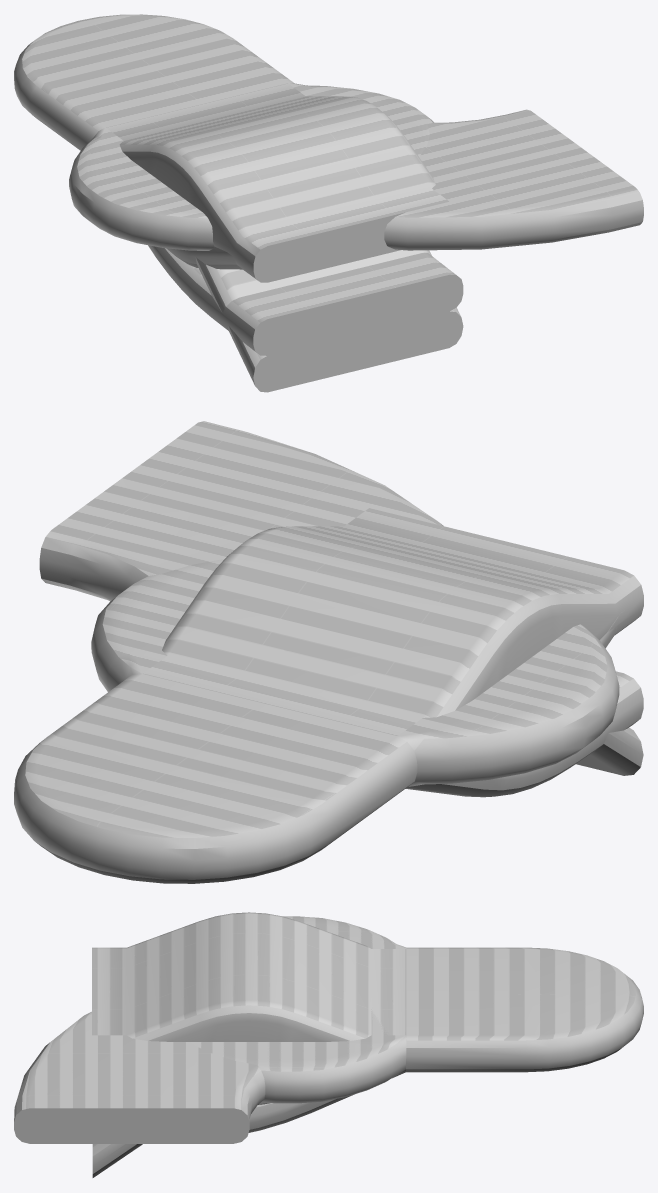
The model's file is Floor_2x3_BothSofter_thin.fbx.
3 views of the same model, one above another, from view 1: azimuth 30°, elevation 25°; view 2: azimuth 150°, elevation 25°; view 3: azimuth 270°, elevation 25° (orthographic). The views are drawn at different scales.
Parts seen in each view (by area): view 1: Floor_2x3_BSr_Tn_hill, Floor_2x3_BSr_Tn_rotate, Floor_2x3_BSr_Tn_cap, Floor_2x3_BSr_Tn_ramp2, Floor_2x3_BSr_Tn_circle, Floor_2x3_BSr_Tn_ramp1, Floor_2x3_BSr_Tn_deep; view 2: Floor_2x3_BSr_Tn_hill, Floor_2x3_BSr_Tn_cap, Floor_2x3_BSr_Tn_rotate, Floor_2x3_BSr_Tn_circle, Floor_2x3_BSr_Tn_ramp2, Floor_2x3_BSr_Tn_ramp1; view 3: Floor_2x3_BSr_Tn_hill, Floor_2x3_BSr_Tn_cap, Floor_2x3_BSr_Tn_rotate, Floor_2x3_BSr_Tn_circle, Floor_2x3_BSr_Tn_ramp2, Floor_2x3_BSr_Tn_ramp1.
Boxes of the visible parts, left/top/right/bottom form: Floor_2x3_BSr_Tn_hill: left=106, top=83, right=448, bottom=282; Floor_2x3_BSr_Tn_rotate: left=384, top=109, right=643, bottom=250; Floor_2x3_BSr_Tn_cap: left=14, top=14, right=293, bottom=150; Floor_2x3_BSr_Tn_ramp2: left=148, top=245, right=463, bottom=355; Floor_2x3_BSr_Tn_circle: left=69, top=83, right=433, bottom=250; Floor_2x3_BSr_Tn_ramp1: left=195, top=250, right=463, bottom=392; Floor_2x3_BSr_Tn_deep: left=166, top=246, right=257, bottom=280; Floor_2x3_BSr_Tn_hill: left=143, top=508, right=643, bottom=735; Floor_2x3_BSr_Tn_cap: left=14, top=674, right=417, bottom=883; Floor_2x3_BSr_Tn_rotate: left=39, top=421, right=443, bottom=601; Floor_2x3_BSr_Tn_circle: left=91, top=559, right=619, bottom=786; Floor_2x3_BSr_Tn_ramp2: left=405, top=671, right=643, bottom=797; Floor_2x3_BSr_Tn_ramp1: left=576, top=727, right=643, bottom=775; Floor_2x3_BSr_Tn_hill: left=92, top=912, right=406, bottom=1041; Floor_2x3_BSr_Tn_cap: left=406, top=947, right=643, bottom=1072; Floor_2x3_BSr_Tn_rotate: left=14, top=1011, right=406, bottom=1143; Floor_2x3_BSr_Tn_circle: left=190, top=916, right=406, bottom=1103; Floor_2x3_BSr_Tn_ramp2: left=248, top=1072, right=405, bottom=1132; Floor_2x3_BSr_Tn_ramp1: left=92, top=1062, right=406, bottom=1177.
Bounding box in the file's own units: 594 × 249 × 802.
